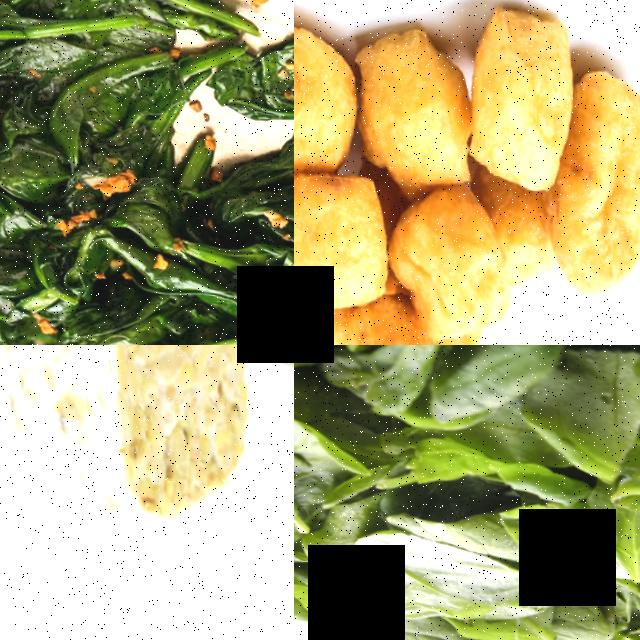tempeh: (14, 345, 258, 518)
tofu: (543, 53, 640, 297), (460, 0, 576, 185), (380, 173, 504, 342), (353, 12, 471, 184), (294, 160, 389, 320), (294, 11, 359, 176)
